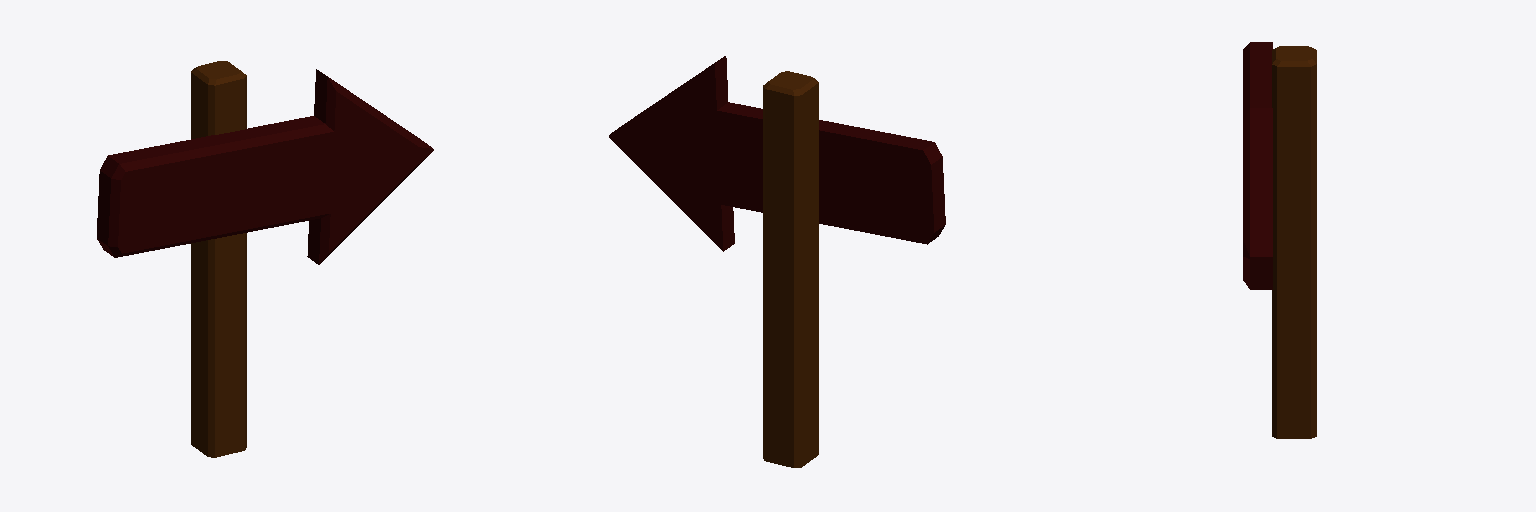
File: Arrow_Side.obj
3 renders of one model, left to right at view 1: azimuth 30°, elevation 25°; view 2: azimuth 150°, elevation 25°; view 3: azimuth 270°, elevation 25°, orthographic.
Visible parts, largest first — view 1: Arrow_Side_Cube.246; view 2: Arrow_Side_Cube.246; view 3: Arrow_Side_Cube.246.
Part boxes in pixels (x1,y1,x2,y2): Arrow_Side_Cube.246: (97,61,433,457); Arrow_Side_Cube.246: (609,56,945,467); Arrow_Side_Cube.246: (1243,42,1316,438).
Bounding box in the file's own units: 1.86 × 2.05 × 0.3632.